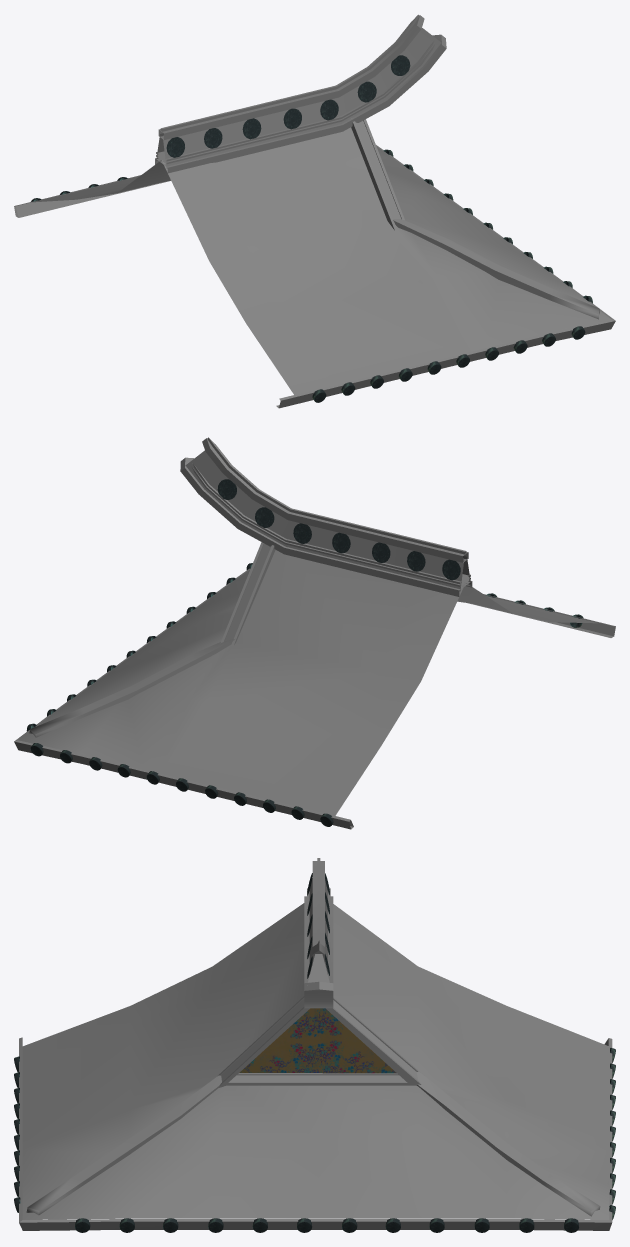
The model's file is Attic_Structure_Corner.fbx.
3 views of the same model, one above another, from view 1: azimuth 30°, elevation 25°; view 2: azimuth 150°, elevation 25°; view 3: azimuth 270°, elevation 25° (orthographic). The views are drawn at different scales.
Visible parts, largest first — view 1: Attic_Structure_Corner; view 2: Attic_Structure_Corner; view 3: Attic_Structure_Corner.
Part boxes in pixels (bbox=[...]): Attic_Structure_Corner: bbox=[14, 14, 615, 408]; Attic_Structure_Corner: bbox=[14, 437, 615, 829]; Attic_Structure_Corner: bbox=[14, 858, 615, 1232].
Size of the model in its own units: 746 by 489 by 1032.
